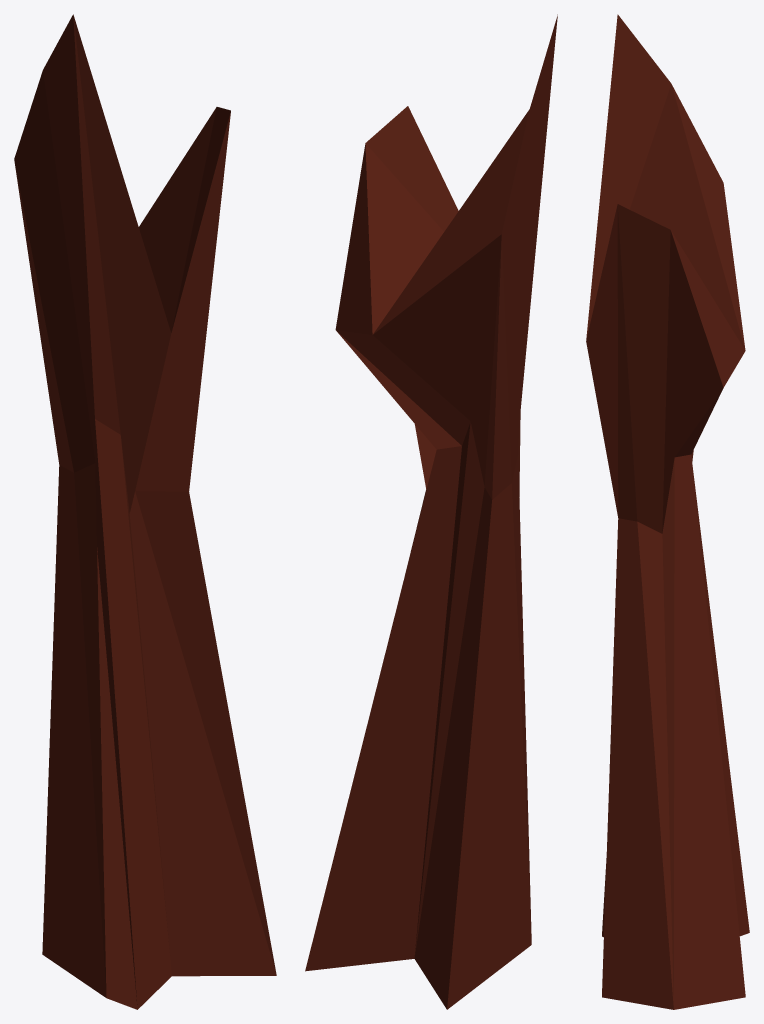
Rendered from Trunk.fbx.
The picture shows the model from 3 angles, left to right: view 1: azimuth 30°, elevation 25°; view 2: azimuth 150°, elevation 25°; view 3: azimuth 270°, elevation 25°; orthographic projection. The views are drawn at different scales.
Visible parts, largest first — view 1: Cylinder002; view 2: Cylinder002; view 3: Cylinder002.
Part boxes in pixels (box(x1,y1,x2,y2)): Cylinder002: box(14, 14, 276, 1009); Cylinder002: box(305, 14, 557, 1009); Cylinder002: box(586, 14, 749, 1009).
Bounding box in the file's own units: 45.52 × 32.19 × 195.
